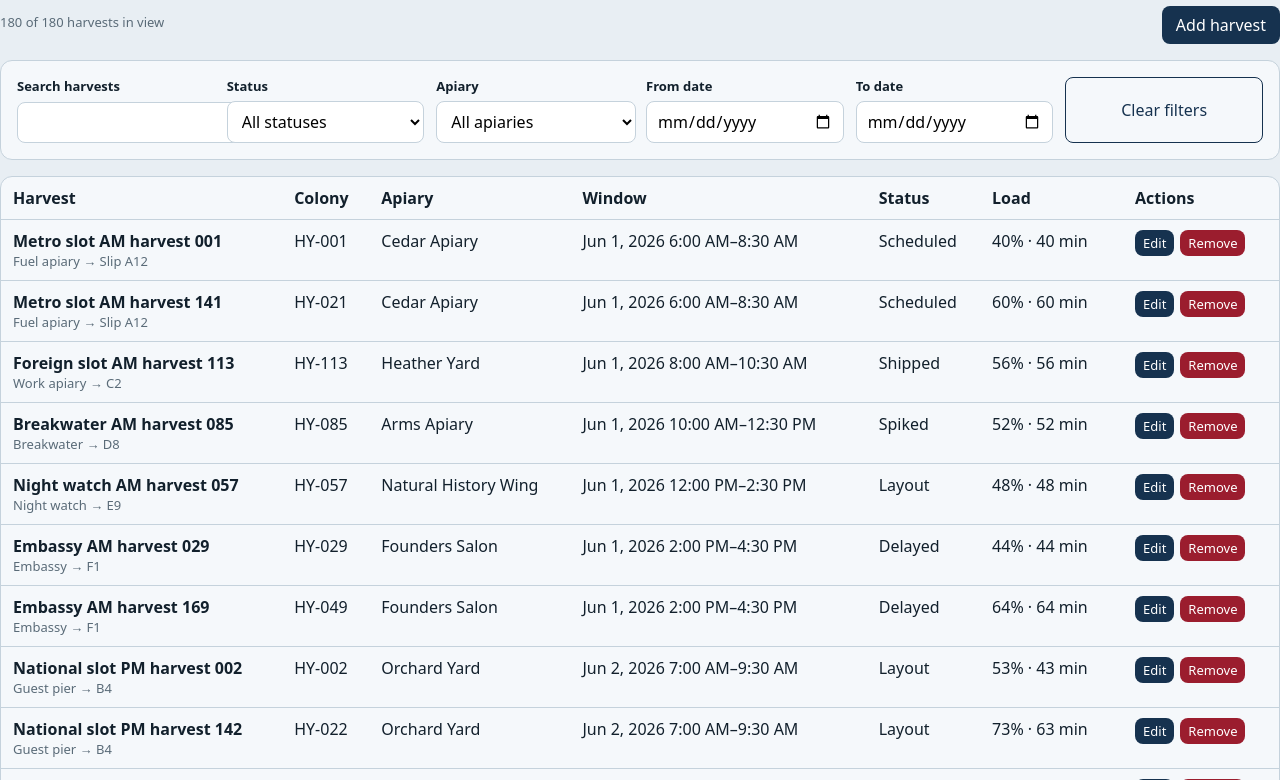
Test: supporting pages › filters harvests by search
This screenshot has width=1280, height=780.
Type "does-not-match-any-harvest" into the search field labelled "Search harvests" at (144, 122), box [17,102,270,143]
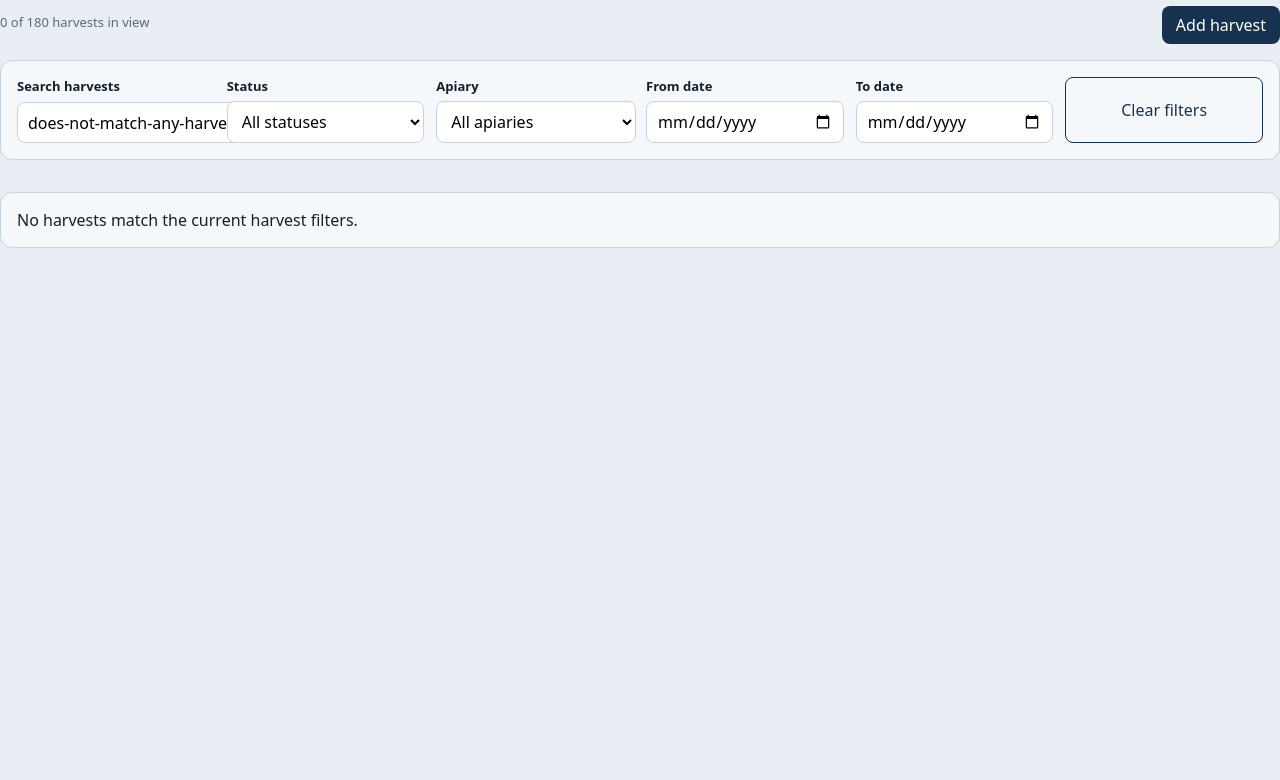
Result: the text "No harvests match the current harvest filters." is shown at [0,192,1279,248]
